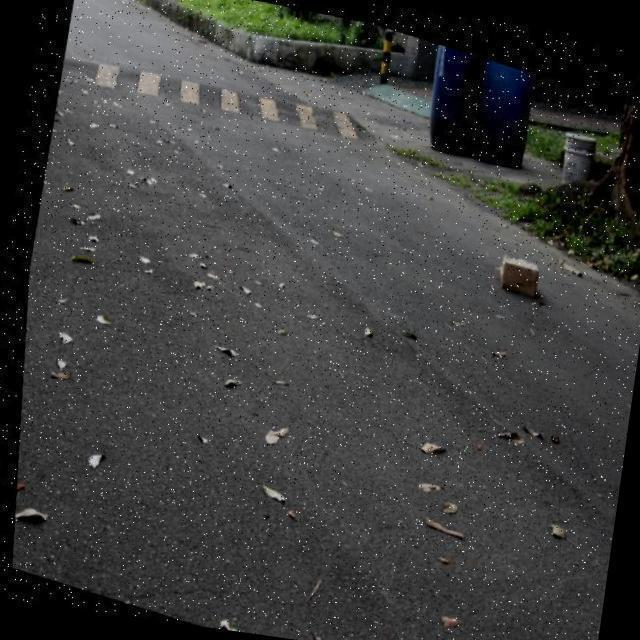Paper_Bag: (492, 245, 540, 293)
